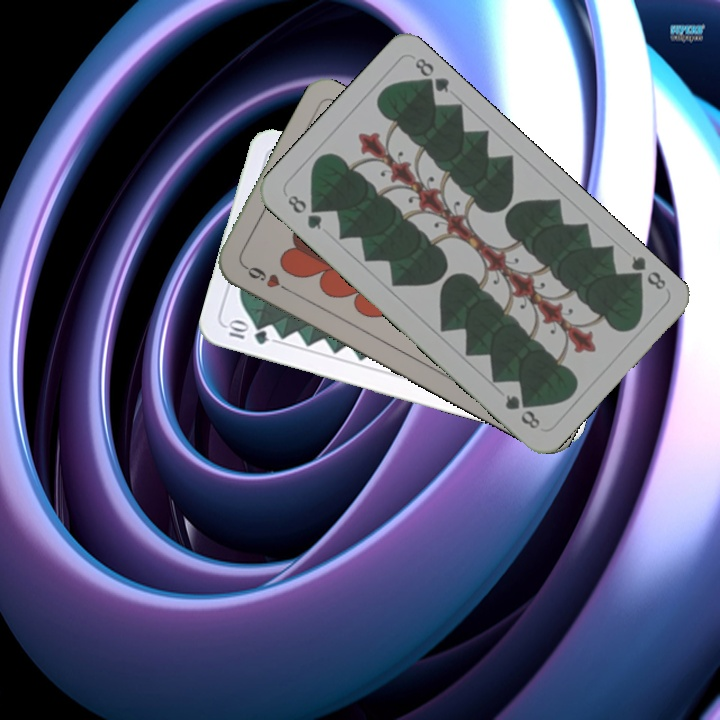G10: (222, 317, 272, 347)
G8: (623, 251, 669, 293), (283, 190, 325, 233)
H9: (239, 260, 293, 295)
